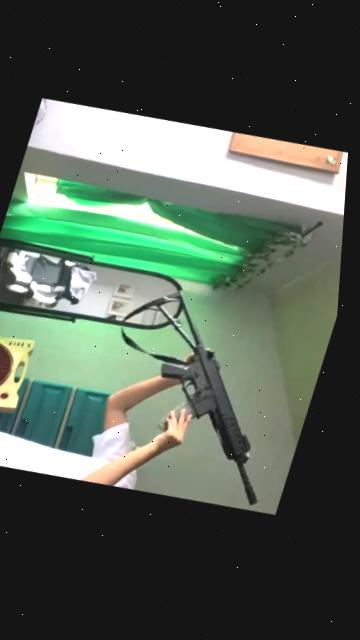rifle: (108, 275, 328, 521)
